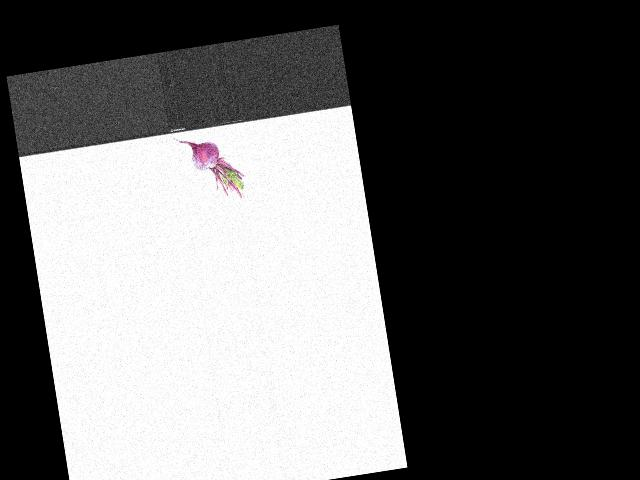beet: (173, 126, 247, 207)
